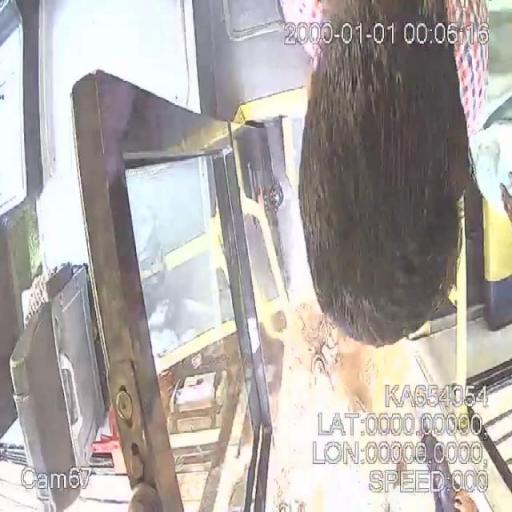persona: (295, 0, 483, 350)
